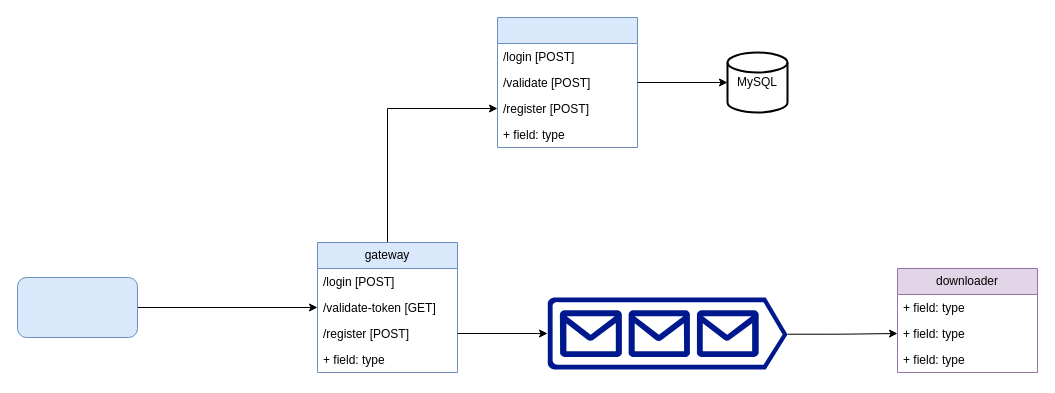
Some shapes in this 1055 by 393 pixel diagram are drawn without their labels. The box of each missing label's shape, as (x1, y1, x2, y2) in pixels:
auth: (496, 16, 638, 148)
frontend Nextjs: (16, 276, 138, 338)
